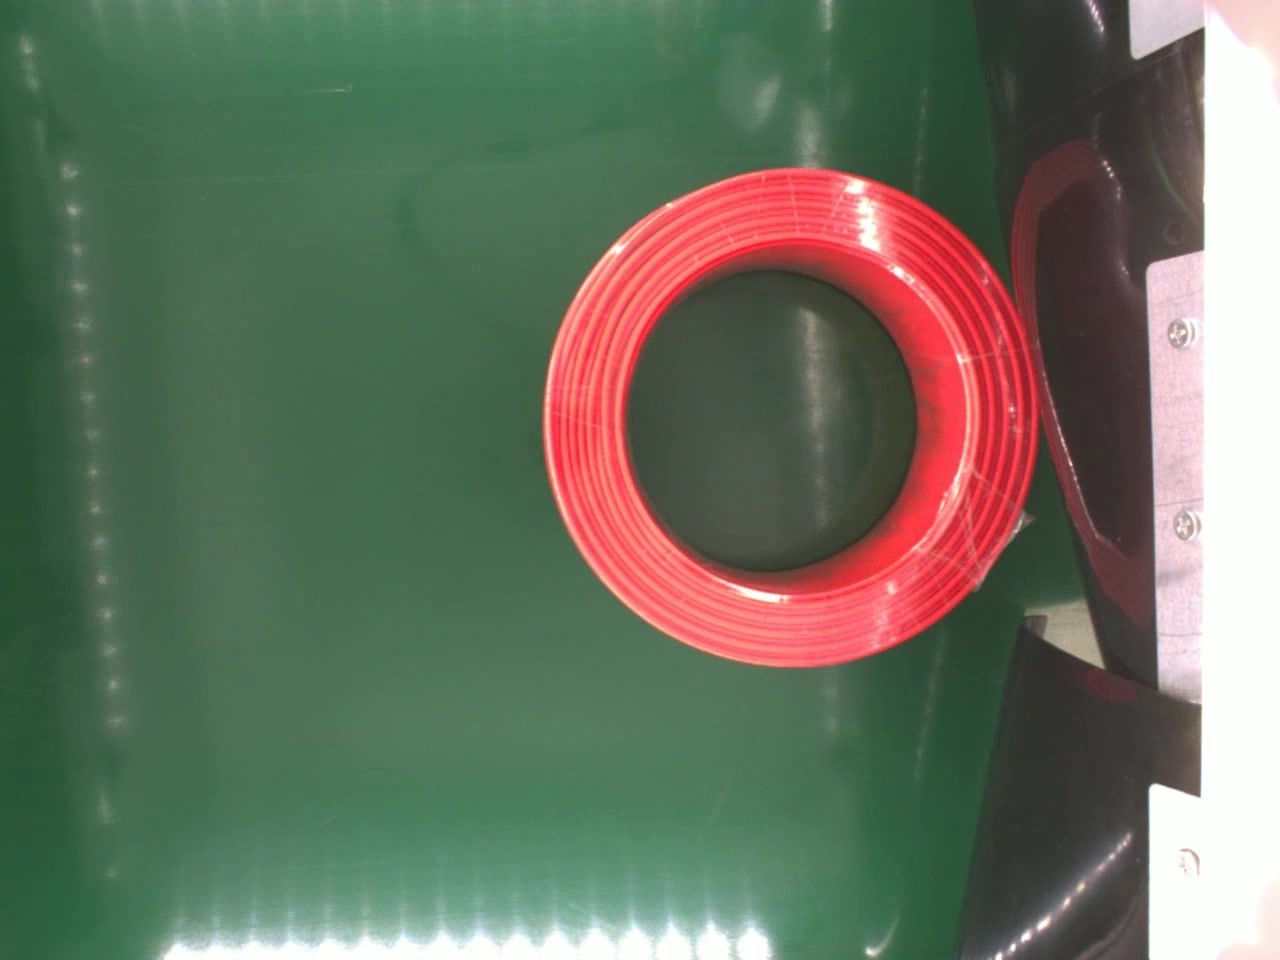red: (535, 163, 1040, 670)
